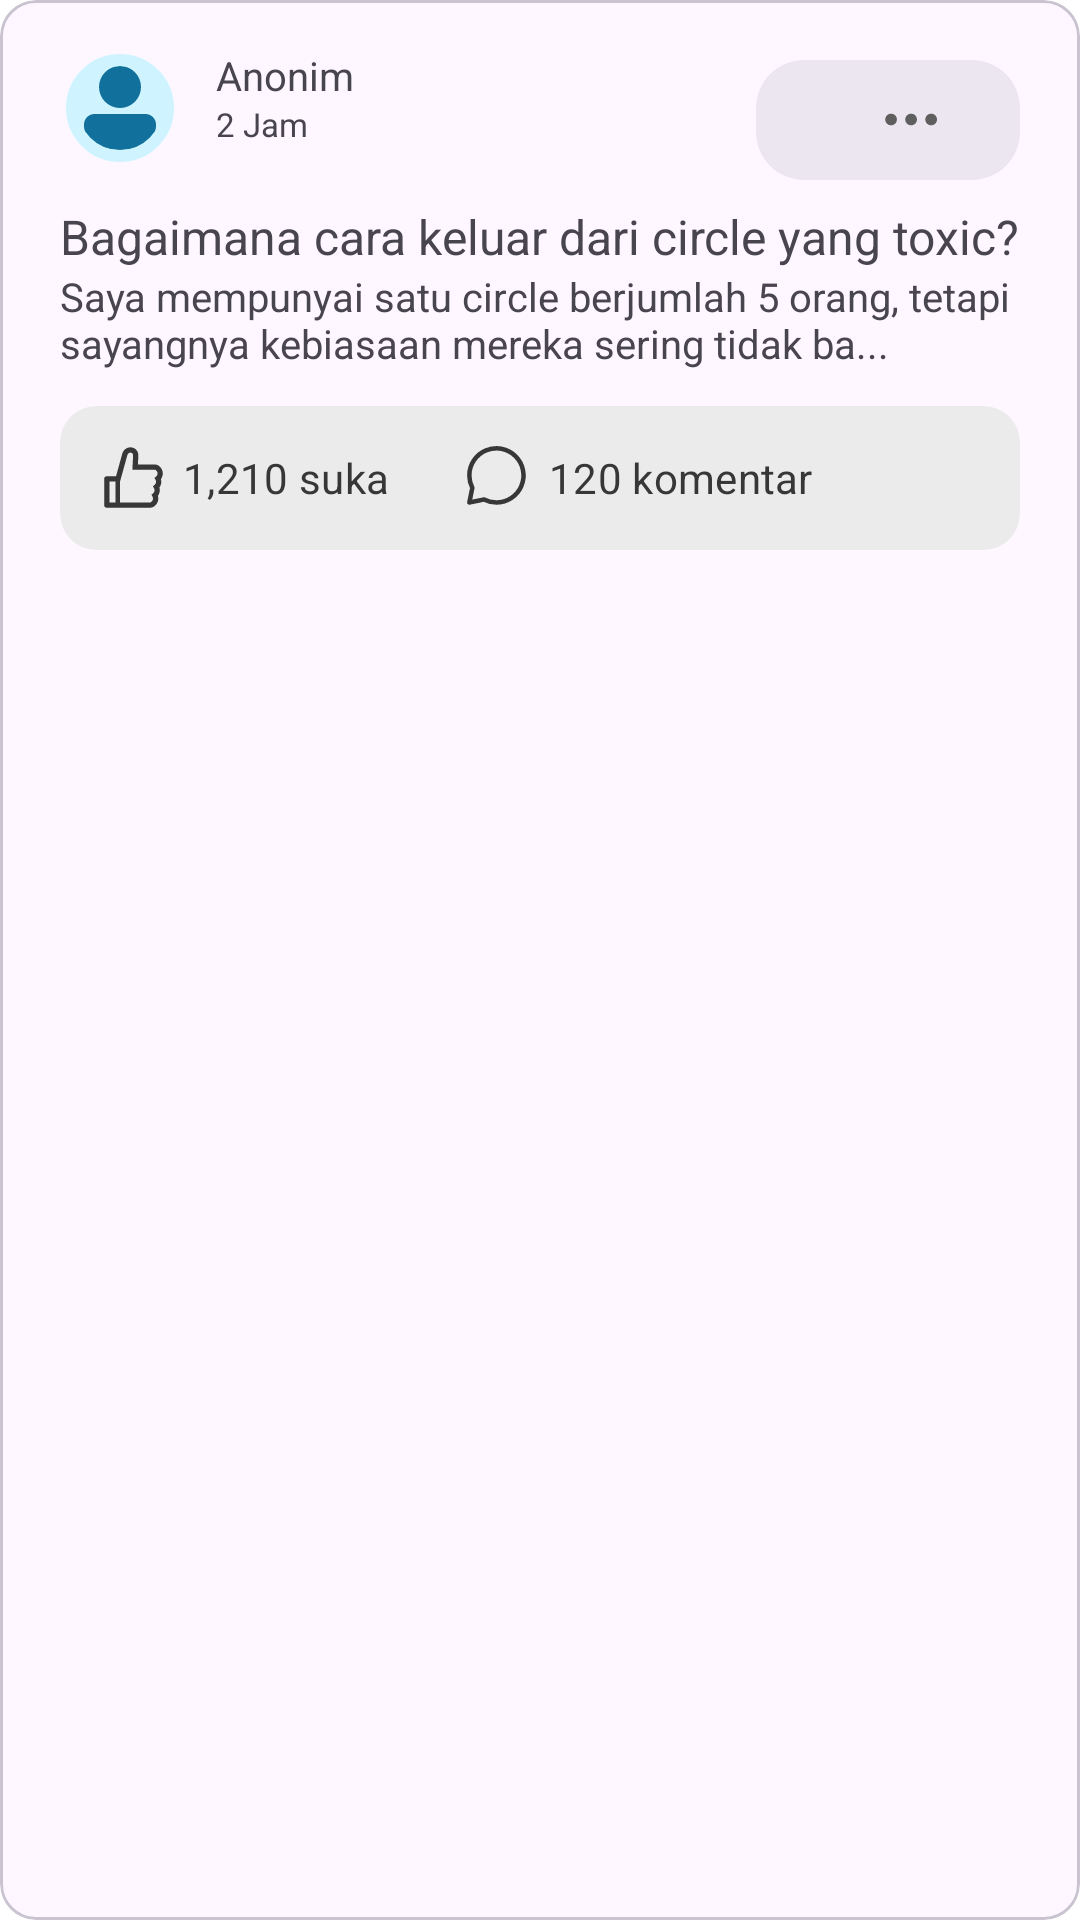

Where to tap for icons on this 1080px×1920px app screen, as (x=x, y=y):
user: (x=120, y=108)
